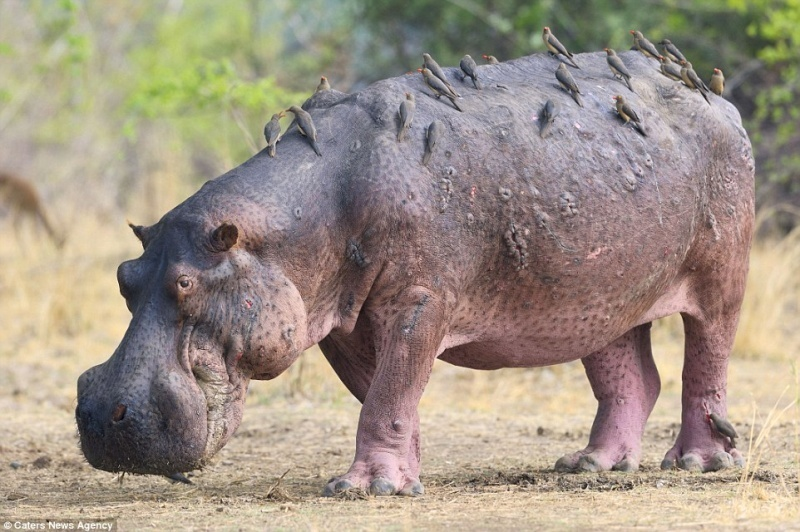hipopotamo: (76, 49, 755, 488)
